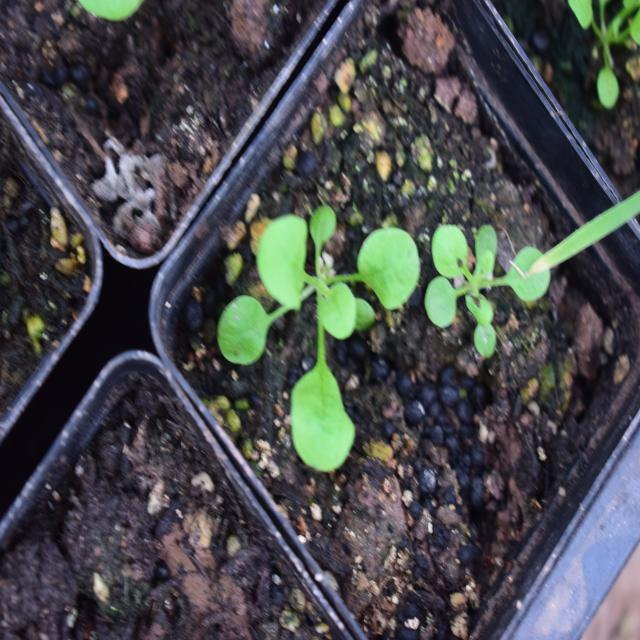Shepherd_Purse: (221, 201, 418, 461)
